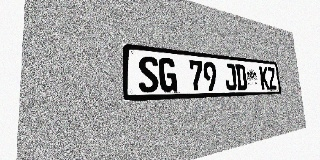7: (188, 60, 204, 91)
9: (203, 61, 218, 91)
D: (235, 64, 247, 90)
G: (158, 57, 177, 92)
J: (224, 63, 237, 90)
K: (259, 66, 270, 90)
S: (138, 55, 159, 93)
Z: (267, 67, 277, 89)
